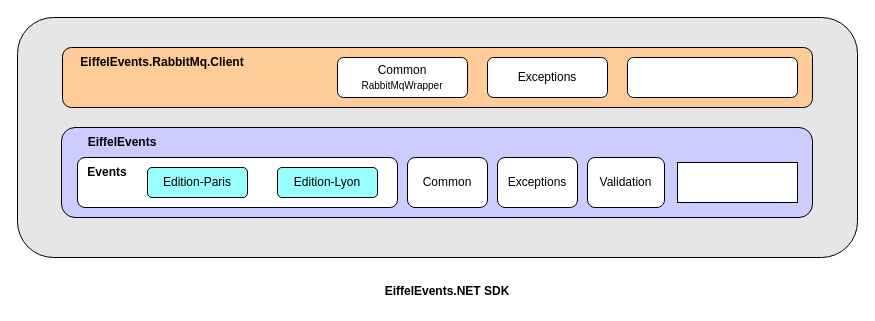
Image size: 875x321. Some labels were removed from this diagram. The centre of each missing label's shape, as x and y in pixels:
"<<Interface>> IEiffelClient" belongs at (x=737, y=182).
"RabbitMqEiffelClient: IEiffelClient" belongs at (x=712, y=77).
